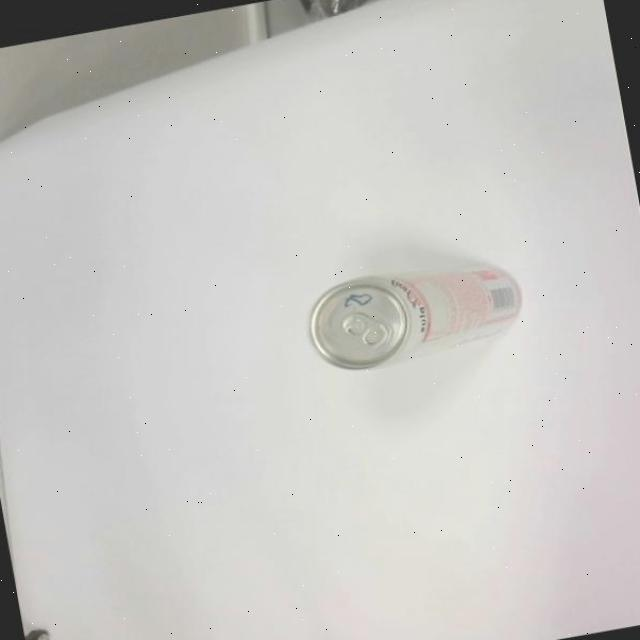debris: (298, 246, 532, 380)
